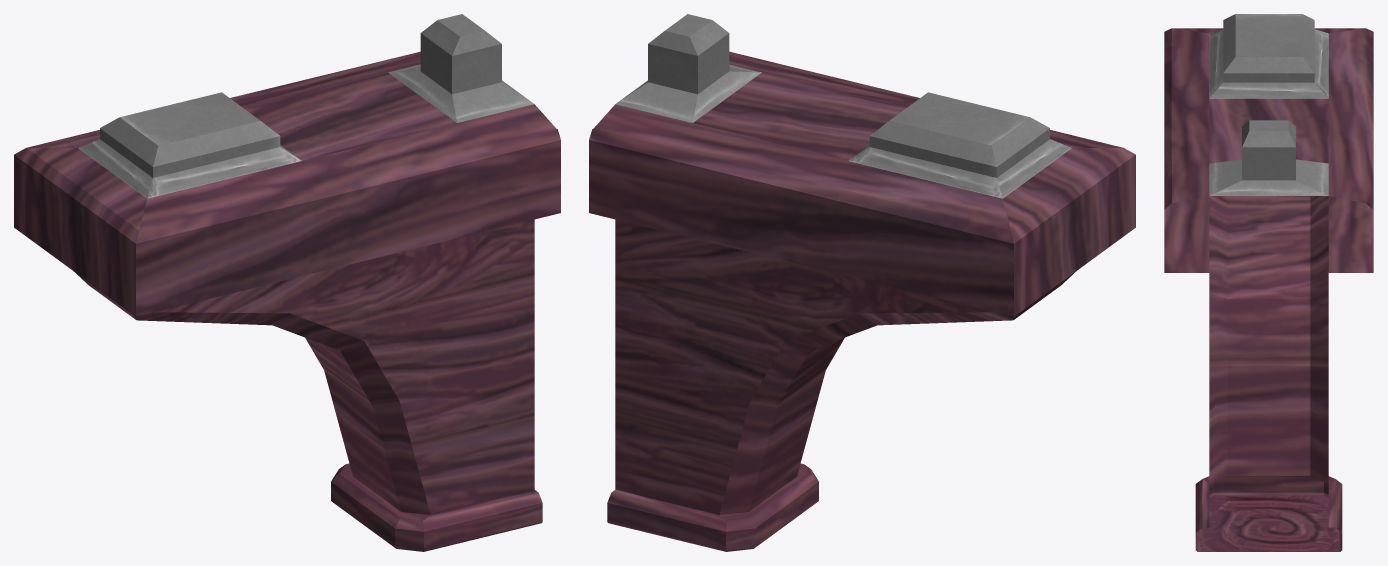
Rendered from MOD_ColumnStrut.fbx.
3 renders of one model, left to right at view 1: azimuth 30°, elevation 25°; view 2: azimuth 150°, elevation 25°; view 3: azimuth 270°, elevation 25°, orthographic. The views are drawn at different scales.
Parts seen in each view (by area): view 1: MOD_ColumnStrut; view 2: MOD_ColumnStrut; view 3: MOD_ColumnStrut.
Boxes of the visible parts, left/top/right/bottom form: MOD_ColumnStrut: left=14, top=14, right=560, bottom=551; MOD_ColumnStrut: left=589, top=14, right=1135, bottom=551; MOD_ColumnStrut: left=1164, top=14, right=1373, bottom=551.
Size of the model in its own units: 75.27 by 80.68 by 37.38.
1 material, 1 textured.
